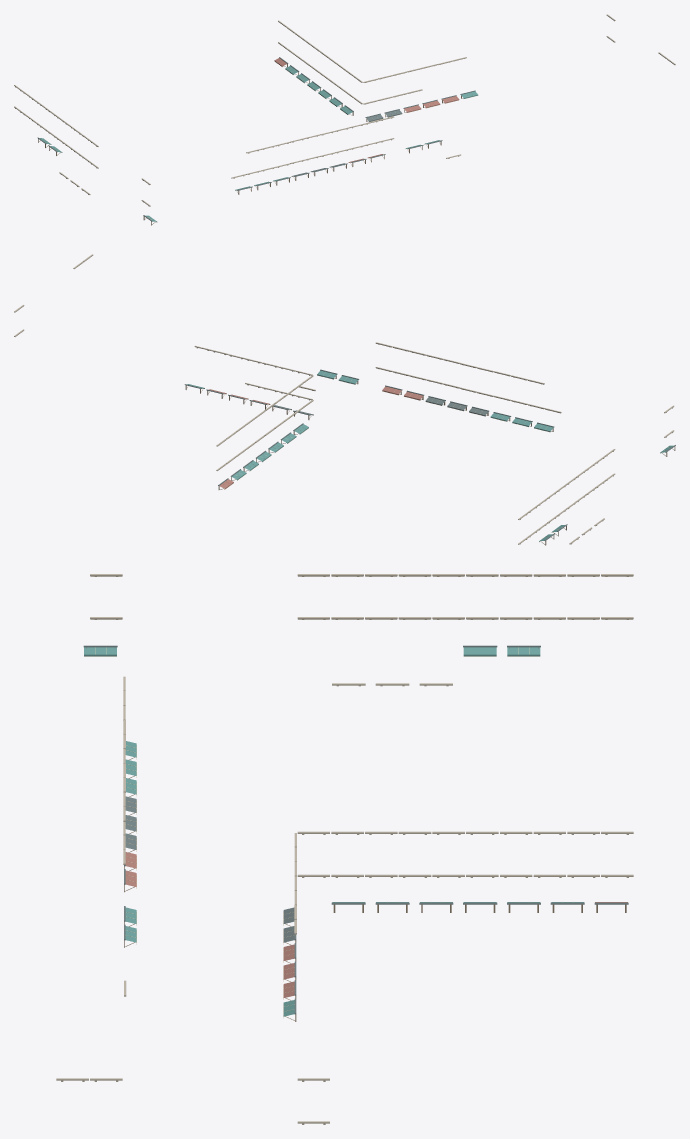
Rendered from voidworks.glb.
The picture shows the model from 3 angles, top to bottom: view 1: azimuth 30°, elevation 25°; view 2: azimuth 150°, elevation 25°; view 3: azimuth 270°, elevation 25°; orthographic projection. The views are drawn at different scales.
Visible parts, largest first — view 1: stone, enamel, canvas, bronze, wine; view 2: stone, canvas, enamel, bronze; view 3: stone, enamel, canvas, bronze, wine.
Boxes of the visible parts, bbox=[...] form: stone: bbox=[14, 14, 675, 206]; enamel: bbox=[37, 57, 475, 221]; canvas: bbox=[39, 66, 478, 221]; bronze: bbox=[38, 17, 665, 225]; wine: bbox=[274, 58, 459, 162]; stone: bbox=[14, 254, 674, 544]; canvas: bbox=[187, 370, 673, 541]; enamel: bbox=[184, 369, 675, 540]; bronze: bbox=[17, 256, 675, 545]; stone: bbox=[56, 574, 633, 1124]; enamel: bbox=[83, 645, 628, 1014]; canvas: bbox=[84, 647, 584, 1016]; bronze: bbox=[91, 576, 632, 1021]; wine: bbox=[125, 852, 627, 997].
Size of the model in its own units: 81.91 by 8.42 by 39.54.
